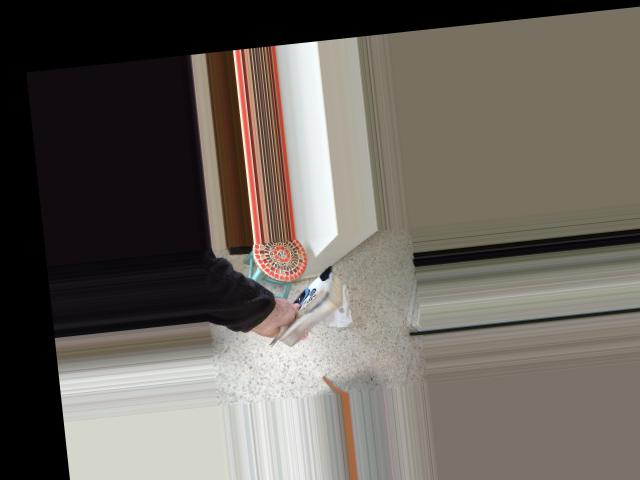cheese: (246, 251, 362, 359)
